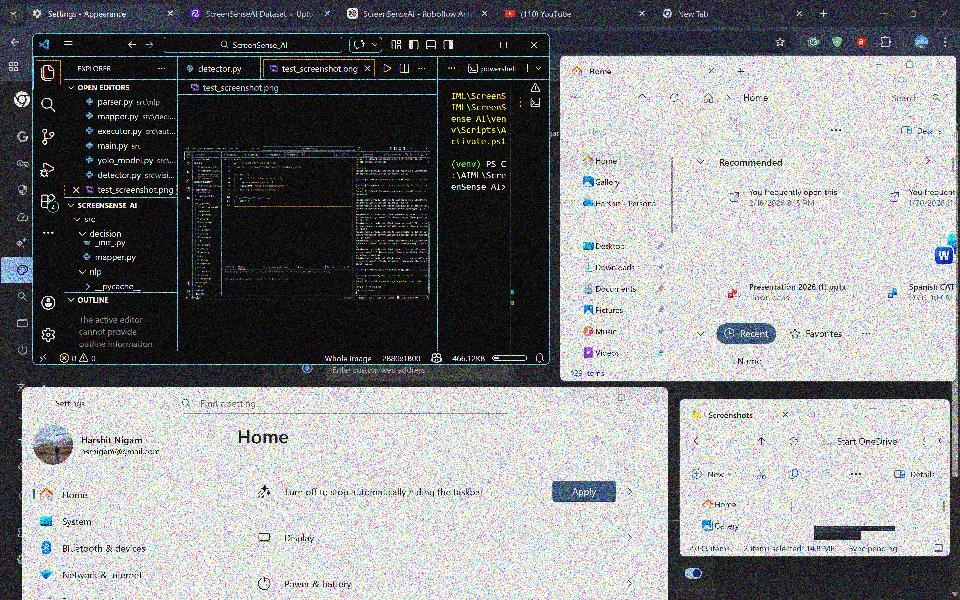close_button: (934, 2, 956, 24), (524, 36, 545, 54), (642, 390, 663, 407), (926, 401, 945, 419), (931, 58, 952, 74)
maximize_button: (494, 35, 515, 55), (905, 3, 925, 24), (892, 401, 914, 417), (901, 57, 920, 75), (613, 390, 631, 405)
minimize_button: (462, 35, 484, 55), (874, 4, 895, 24), (581, 389, 603, 406), (871, 57, 892, 74), (863, 401, 883, 418)
